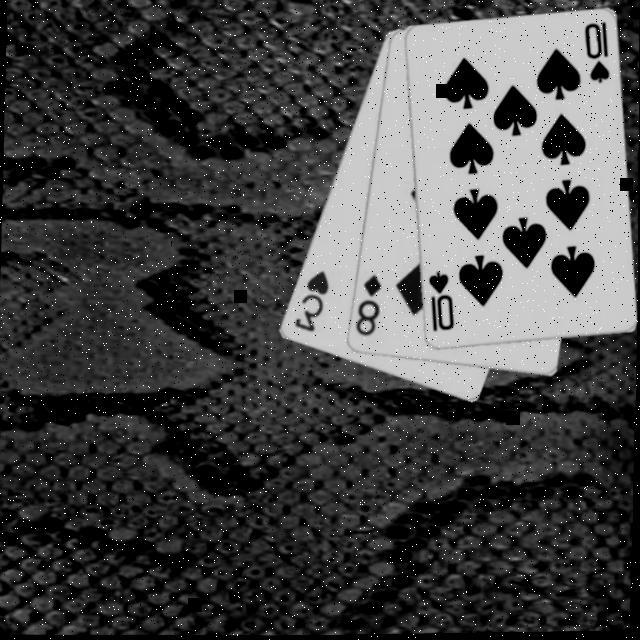10S: (580, 21, 614, 90), (423, 271, 458, 338)
3H: (291, 270, 332, 339)
8D: (352, 274, 384, 342)
